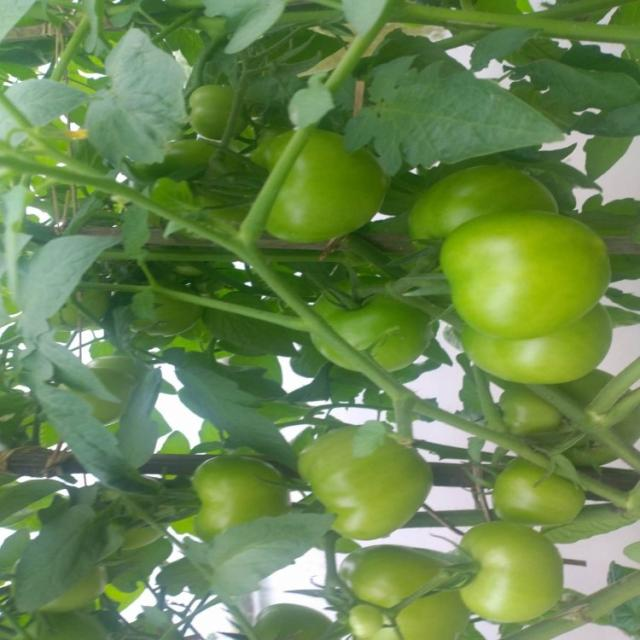tomato: (441, 215, 610, 382), (297, 415, 427, 537), (255, 133, 396, 243), (332, 541, 478, 640), (308, 267, 433, 380), (441, 519, 562, 629), (416, 157, 554, 226), (194, 444, 289, 532), (486, 449, 584, 531), (486, 381, 564, 442), (71, 353, 135, 421), (182, 75, 247, 135), (141, 121, 206, 175), (257, 601, 337, 639)
